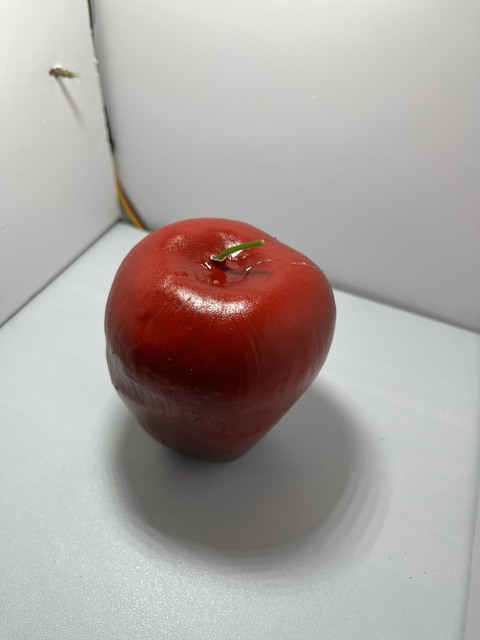Tao: (96, 210, 346, 469)
